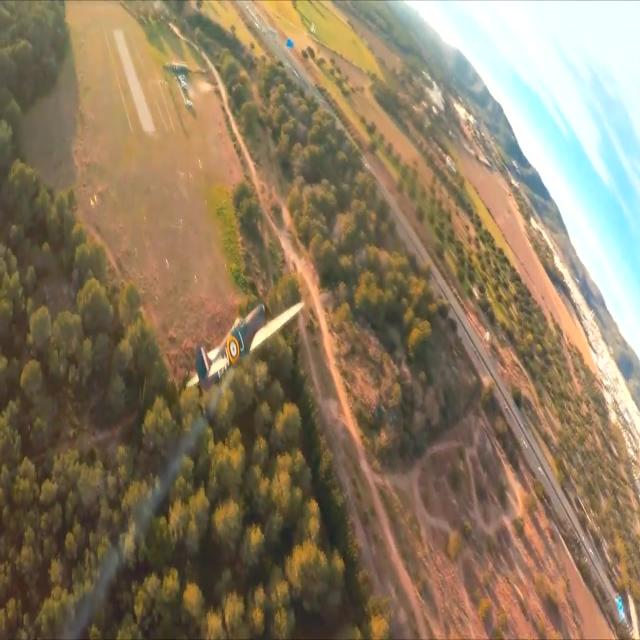iha: (218, 330, 273, 358)
